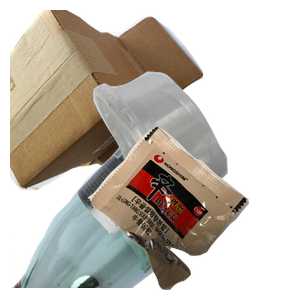cardboard: (10, 10, 206, 190)
glass: (10, 120, 224, 300)
plastic: (91, 69, 300, 249)
trash: (86, 124, 300, 300)
